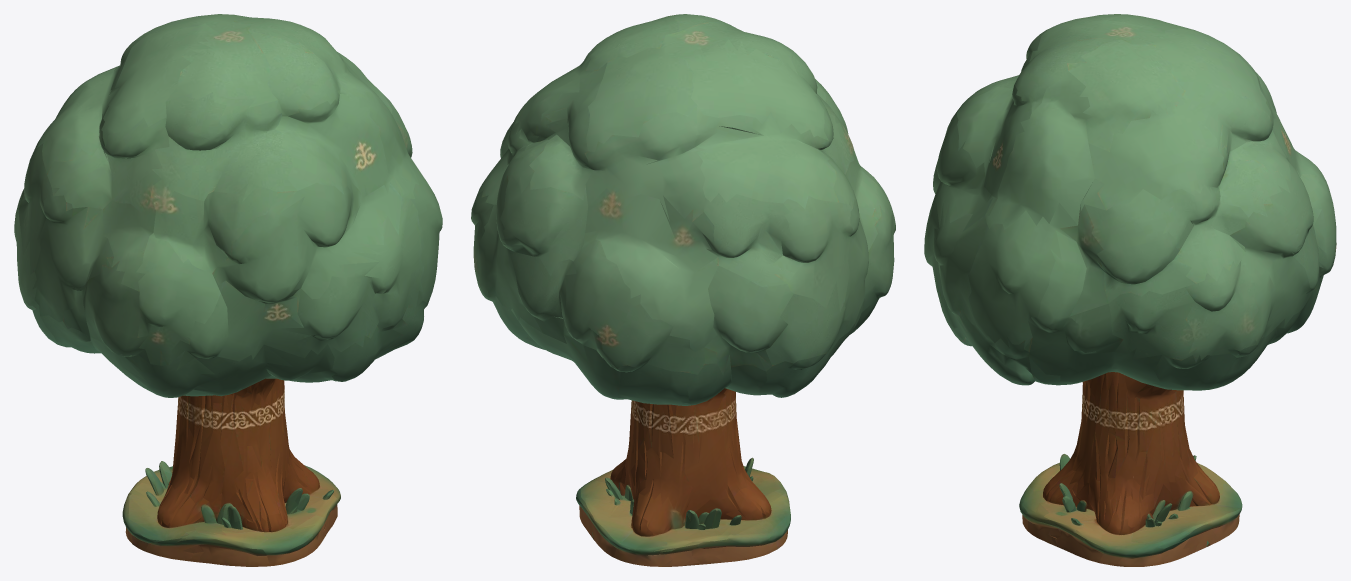
Rendered from tree-round.glb.
3 views of the same model, side by side, from view 1: azimuth 30°, elevation 25°; view 2: azimuth 150°, elevation 25°; view 3: azimuth 270°, elevation 25° (orthographic).
Parts seen in each view (by area): view 1: output_unwrapped; view 2: output_unwrapped; view 3: output_unwrapped.
Part boxes in pixels (x1,y1,x2,y2): output_unwrapped: (14, 14, 442, 566); output_unwrapped: (471, 14, 895, 566); output_unwrapped: (924, 14, 1336, 566).
Bounding box in the file's own units: 1.53 × 2 × 1.53.
Materials: 1 (1 with a texture image).
